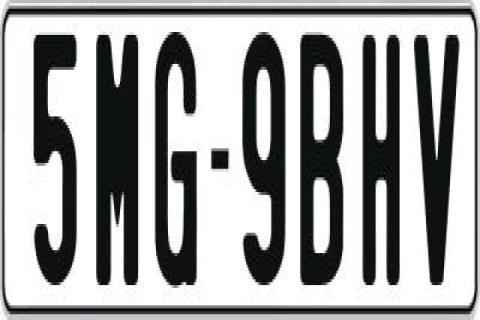0: (34, 27, 82, 280), (239, 24, 285, 282)
B: (296, 29, 346, 294)
G: (152, 23, 199, 291)
H: (360, 35, 398, 285)
M: (96, 29, 138, 279)
V: (410, 26, 462, 276)
